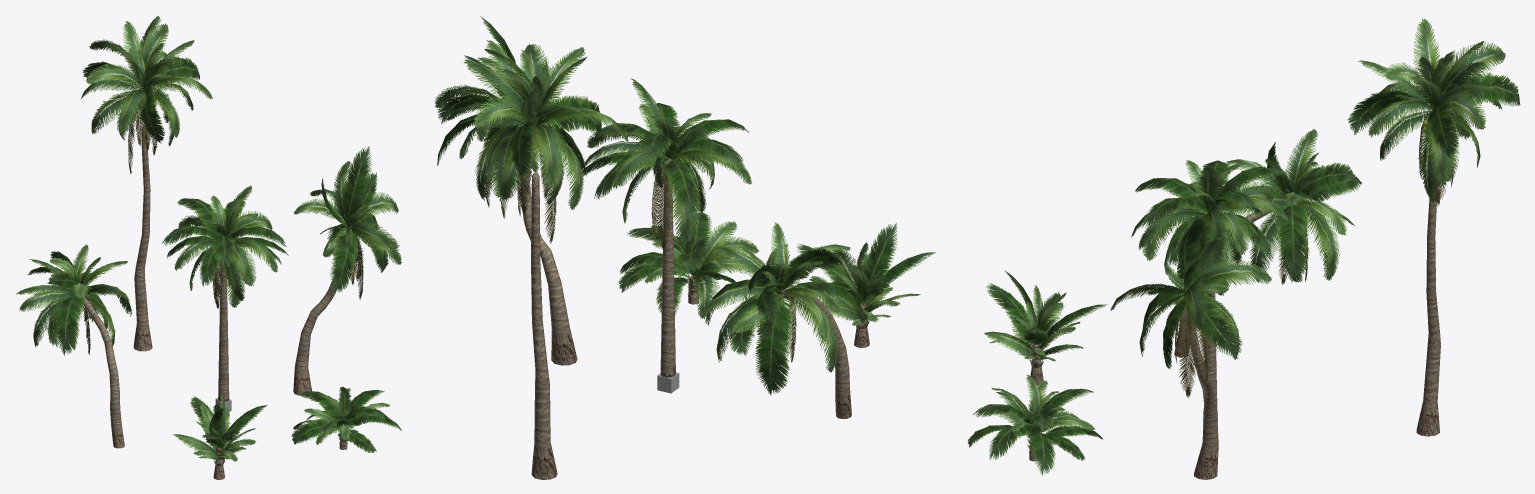
Rendered from tree.obj.
The picture shows the model from 3 angles, left to right: view 1: azimuth 30°, elevation 25°; view 2: azimuth 150°, elevation 25°; view 3: azimuth 270°, elevation 25°; orthographic projection. The views are drawn at different scales.
Parts seen in each view (by area): view 1: polySurface342, polySurface335, polySurface336, polySurface343, polySurface338, polySurface339, polySurface290_polySurface62, polySurface234_polySurface63, polySurface262_polySurface141, polySurface229_polySurface36; view 2: polySurface342, polySurface343, polySurface335, polySurface338, polySurface339, polySurface290_polySurface62, polySurface336, polySurface262_polySurface141, polySurface229_polySurface36, polySurface234_polySurface63; view 3: polySurface342, polySurface335, polySurface336, polySurface343, polySurface338, polySurface339, polySurface290_polySurface62, polySurface262_polySurface141.
Boxes of the visible parts, x1,y1,x2,y2 form: polySurface342: (81, 16, 212, 173); polySurface335: (161, 185, 288, 308); polySurface336: (294, 146, 401, 300); polySurface343: (16, 244, 132, 355); polySurface338: (291, 386, 401, 452); polySurface339: (173, 393, 267, 466); polySurface290_polySurface62: (133, 125, 152, 351); polySurface234_polySurface63: (80, 296, 124, 448); polySurface262_polySurface141: (293, 226, 346, 395); polySurface229_polySurface36: (218, 261, 229, 401); polySurface342: (438, 40, 628, 243); polySurface343: (703, 222, 865, 395); polySurface335: (581, 78, 751, 250); polySurface338: (618, 212, 759, 319); polySurface339: (796, 222, 935, 328); polySurface290_polySurface62: (531, 172, 557, 479); polySurface336: (434, 16, 586, 218); polySurface262_polySurface141: (520, 167, 577, 365); polySurface229_polySurface36: (660, 158, 675, 377); polySurface234_polySurface63: (781, 288, 851, 418); polySurface342: (1347, 18, 1520, 206); polySurface335: (1131, 160, 1288, 297); polySurface336: (1110, 214, 1271, 398); polySurface343: (1224, 129, 1361, 285); polySurface338: (967, 374, 1103, 475); polySurface339: (984, 270, 1107, 367); polySurface290_polySurface62: (1416, 166, 1440, 436); polySurface262_polySurface141: (1185, 295, 1218, 479).
Size of the model in its own units: 67.39 by 58.82 by 74.4.
